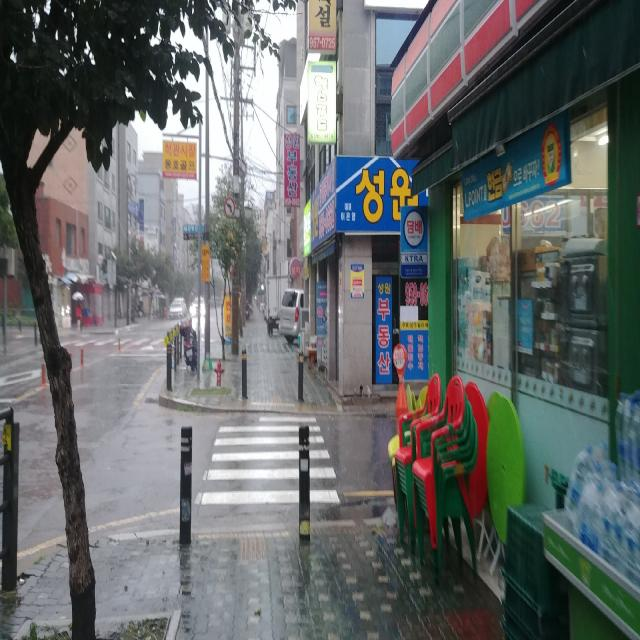횡단보도: (200, 414, 340, 507)
